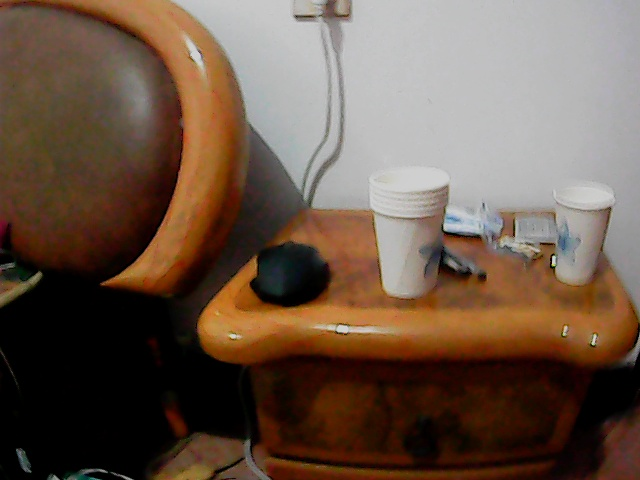cup: (364, 168, 453, 301)
mouse: (241, 239, 331, 306)
